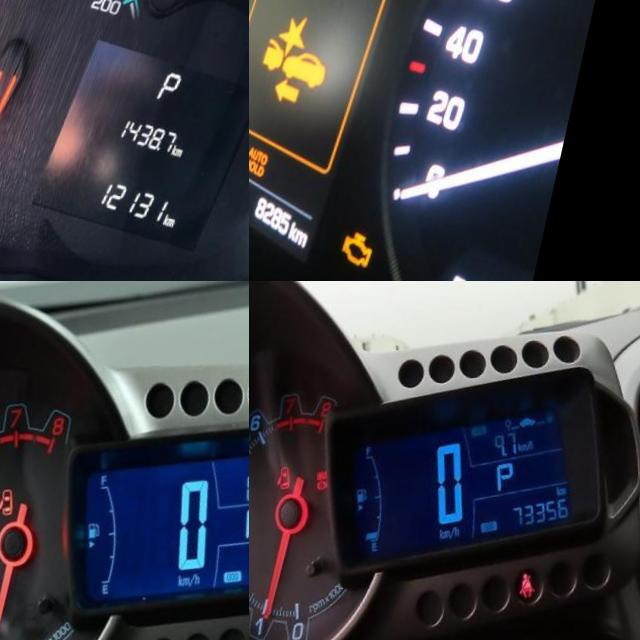Doors: (3, 480, 31, 513), (287, 457, 310, 485)
LaneCenteringOff: (249, 123, 268, 155)
